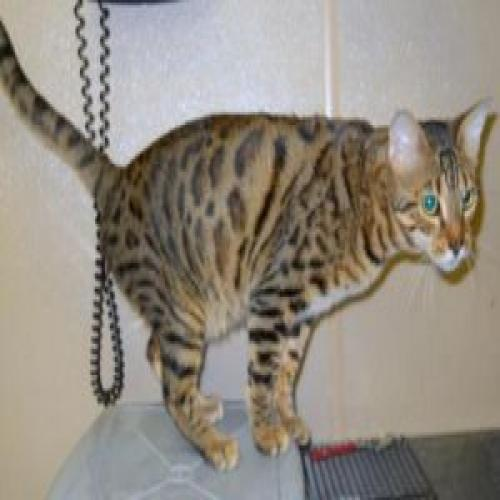cat-face: (376, 93, 497, 281)
